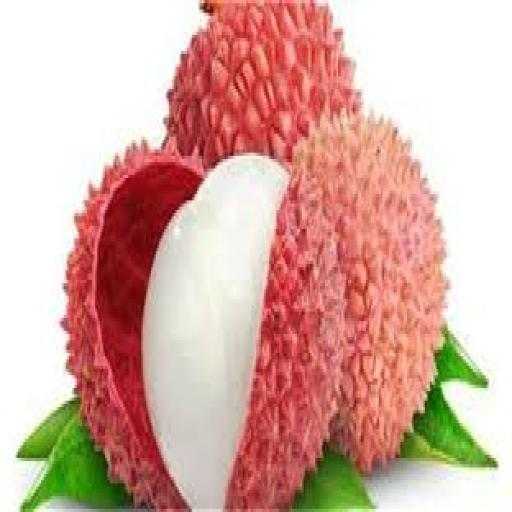lychee: (65, 147, 343, 508), (293, 118, 445, 470), (62, 144, 199, 508), (167, 0, 360, 168)
